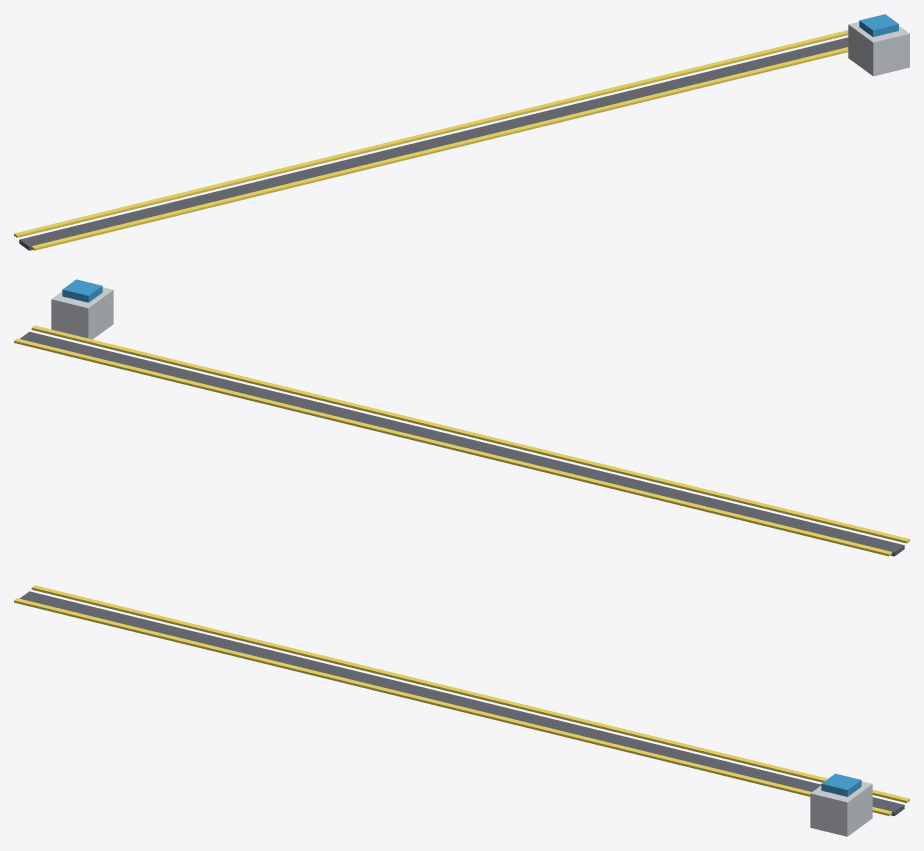
The model's file is go-kart-track-and-pit-lane-timing-loop-strip-af1c51cd__34341.glb.
3 views of the same model, one above another, from view 1: azimuth 30°, elevation 25°; view 2: azimuth 150°, elevation 25°; view 3: azimuth 330°, elevation 25° (orthographic).
Parts seen in each view (by area): view 1: timing-loop-strip-canary, timing-loop-strip-charcoal, timing-loop-strip-steel, timing-loop-strip-azure; view 2: timing-loop-strip-canary, timing-loop-strip-charcoal, timing-loop-strip-steel, timing-loop-strip-azure; view 3: timing-loop-strip-canary, timing-loop-strip-charcoal, timing-loop-strip-steel, timing-loop-strip-azure.
Boxes of the visible parts, left/top/right/bottom form: timing-loop-strip-canary: left=14, top=30, right=848, bottom=250; timing-loop-strip-charcoal: left=19, top=37, right=848, bottom=250; timing-loop-strip-steel: left=848, top=22, right=909, bottom=76; timing-loop-strip-azure: left=859, top=14, right=898, bottom=36; timing-loop-strip-canary: left=14, top=325, right=909, bottom=556; timing-loop-strip-charcoal: left=20, top=331, right=904, bottom=556; timing-loop-strip-steel: left=51, top=287, right=113, bottom=339; timing-loop-strip-azure: left=62, top=279, right=102, bottom=302; timing-loop-strip-canary: left=14, top=585, right=909, bottom=815; timing-loop-strip-charcoal: left=20, top=591, right=904, bottom=816; timing-loop-strip-steel: left=810, top=781, right=872, bottom=836; timing-loop-strip-azure: left=821, top=773, right=861, bottom=796.
Bounding box in the file's own units: 8 × 0.3601 × 0.765.
